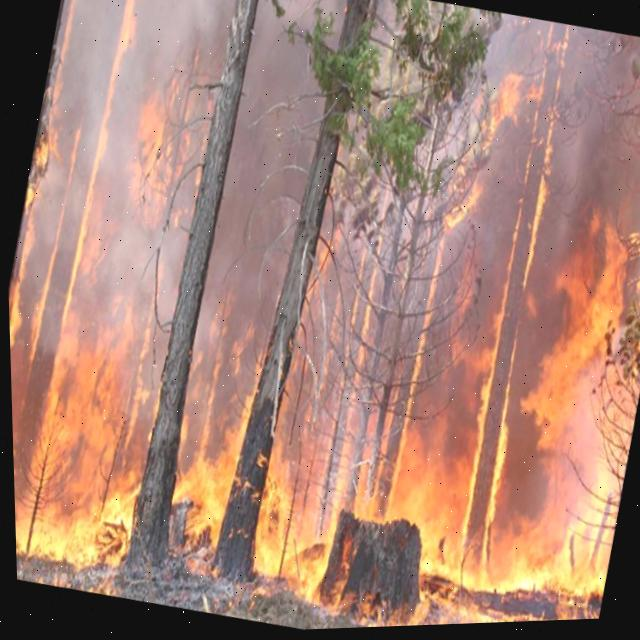fire: (7, 320, 630, 629), (532, 242, 640, 440)
smoke: (7, 0, 228, 334), (195, 13, 327, 361), (477, 17, 611, 174)
